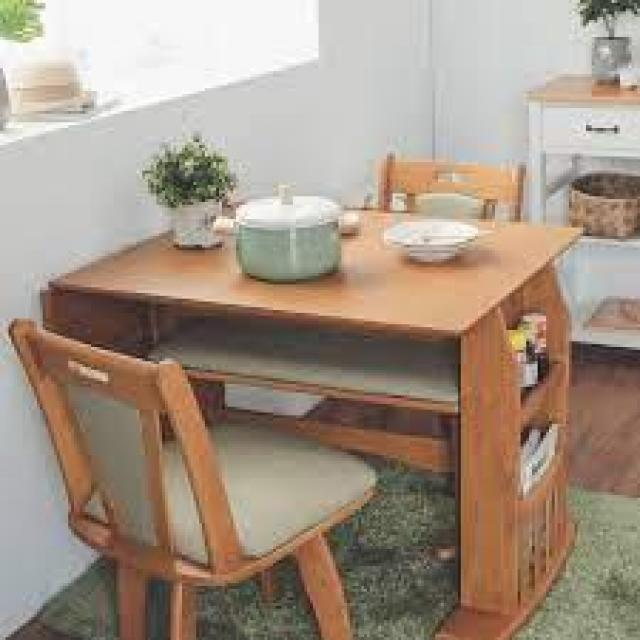table: (45, 175, 569, 590)
